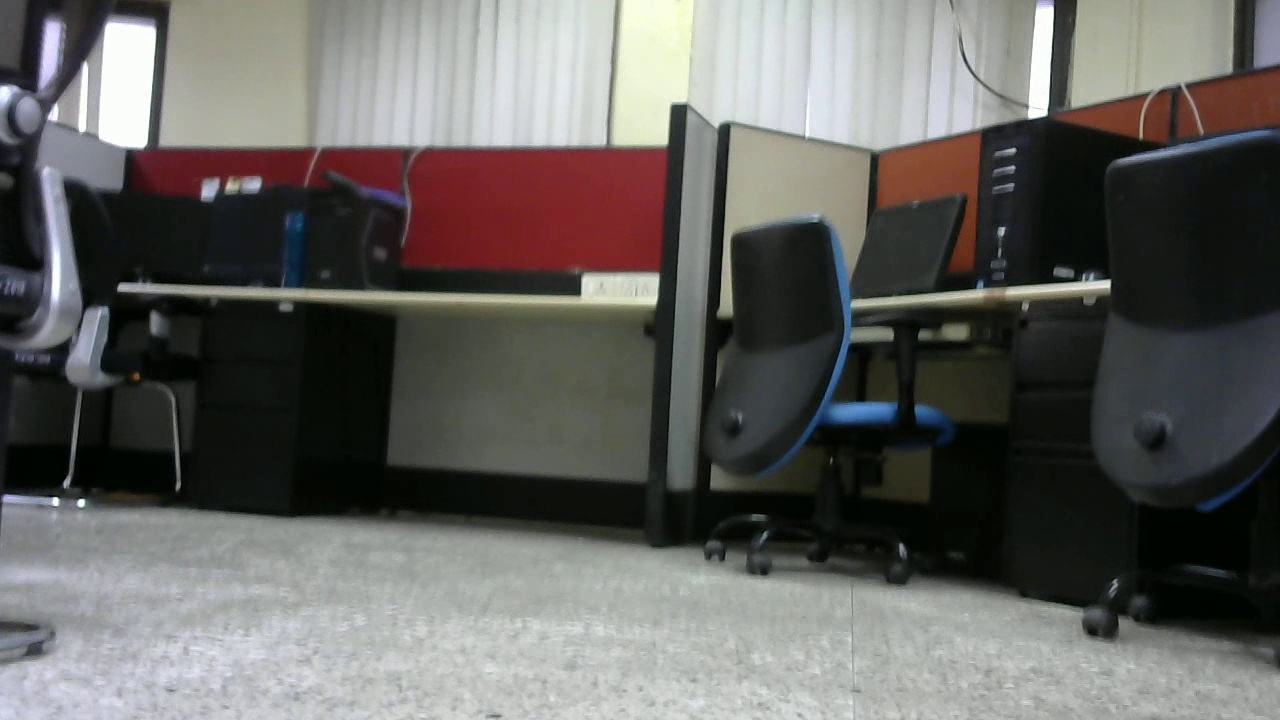chair: (676, 217, 956, 587)
